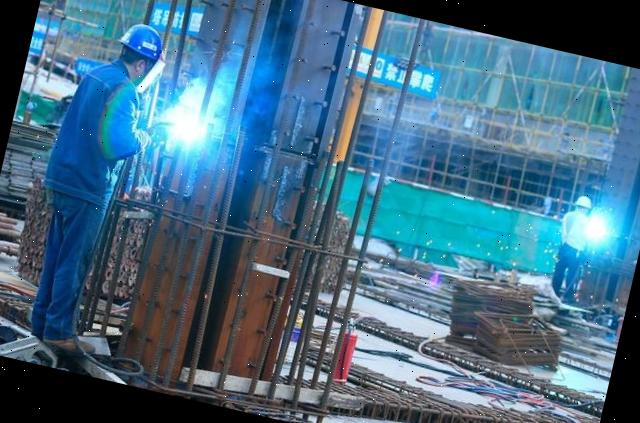helmet: (48, 61, 138, 204), (114, 18, 168, 66)
